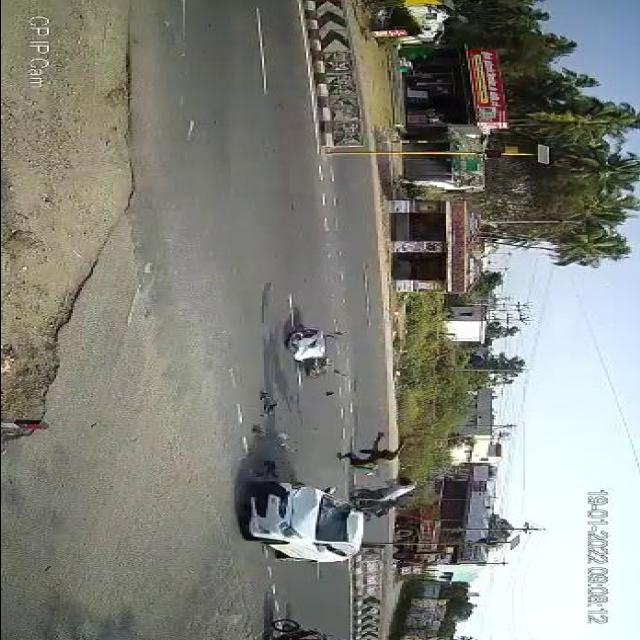accident: (230, 429, 423, 567), (262, 323, 358, 385)
